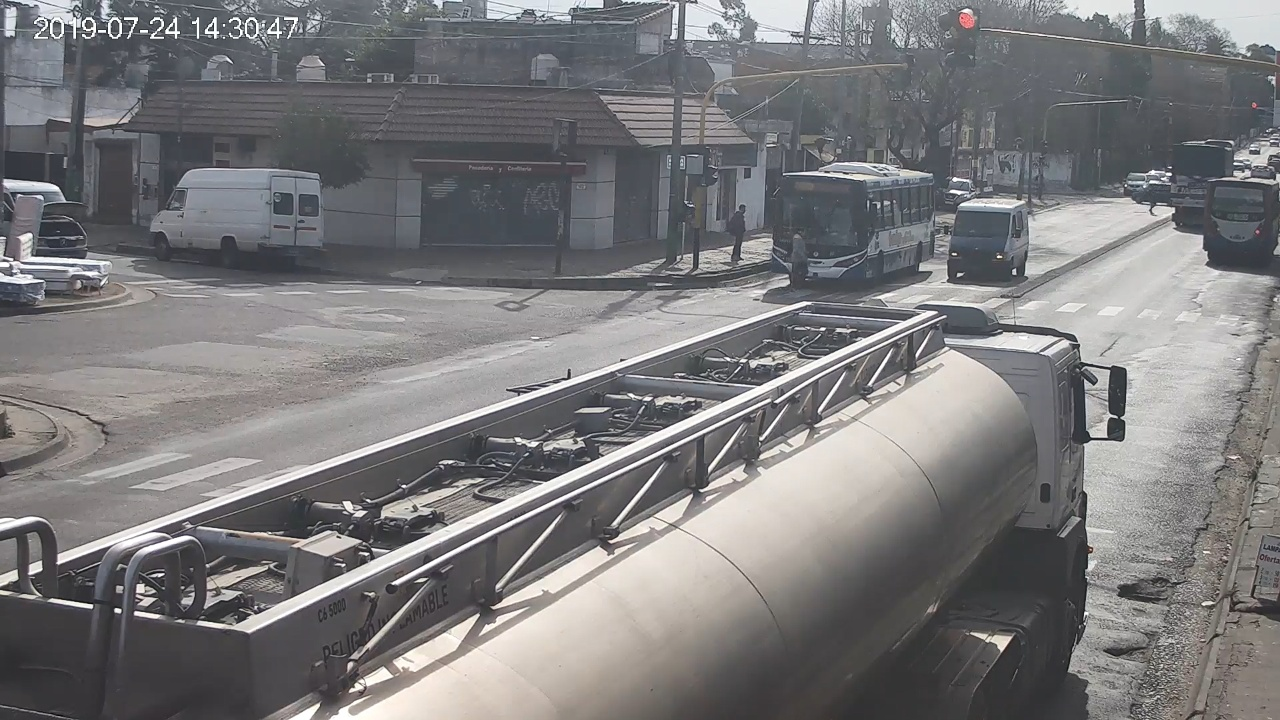traffic light: (957, 9, 977, 66)
truck: (2, 303, 1126, 720)
